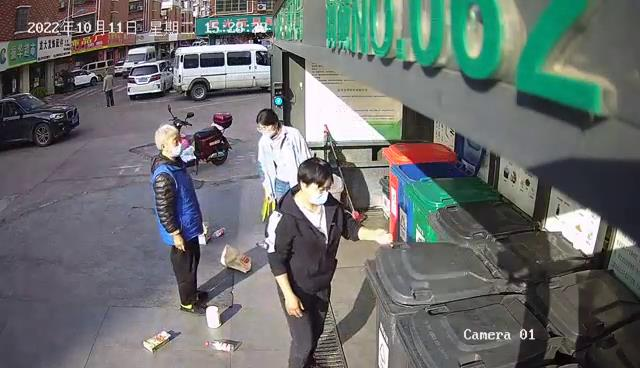lvzhipin: (201, 303, 224, 330)
person: (262, 155, 393, 368), (253, 107, 317, 213)
suliaozhipin: (201, 338, 239, 355), (208, 226, 229, 241)
worker: (147, 121, 210, 317)
zhizhipin: (217, 242, 254, 276), (140, 328, 176, 355)
